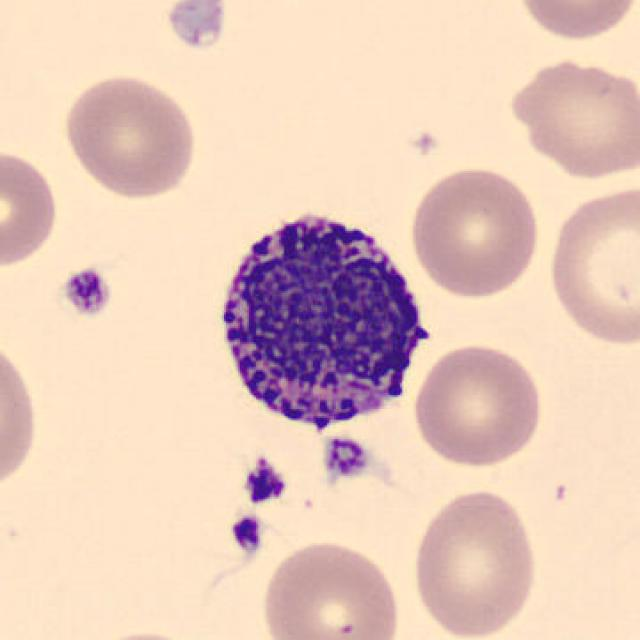Basophil: (204, 194, 441, 444)
Platelets: (165, 2, 231, 51), (58, 265, 114, 319), (318, 434, 370, 481), (242, 458, 290, 508), (226, 513, 265, 554)
RBC: (407, 483, 542, 640), (405, 162, 544, 300), (59, 71, 201, 201), (409, 338, 547, 469), (503, 55, 638, 182), (542, 180, 638, 351), (256, 534, 405, 640), (0, 143, 62, 271), (0, 331, 43, 499), (510, 0, 640, 44), (76, 626, 214, 640)
